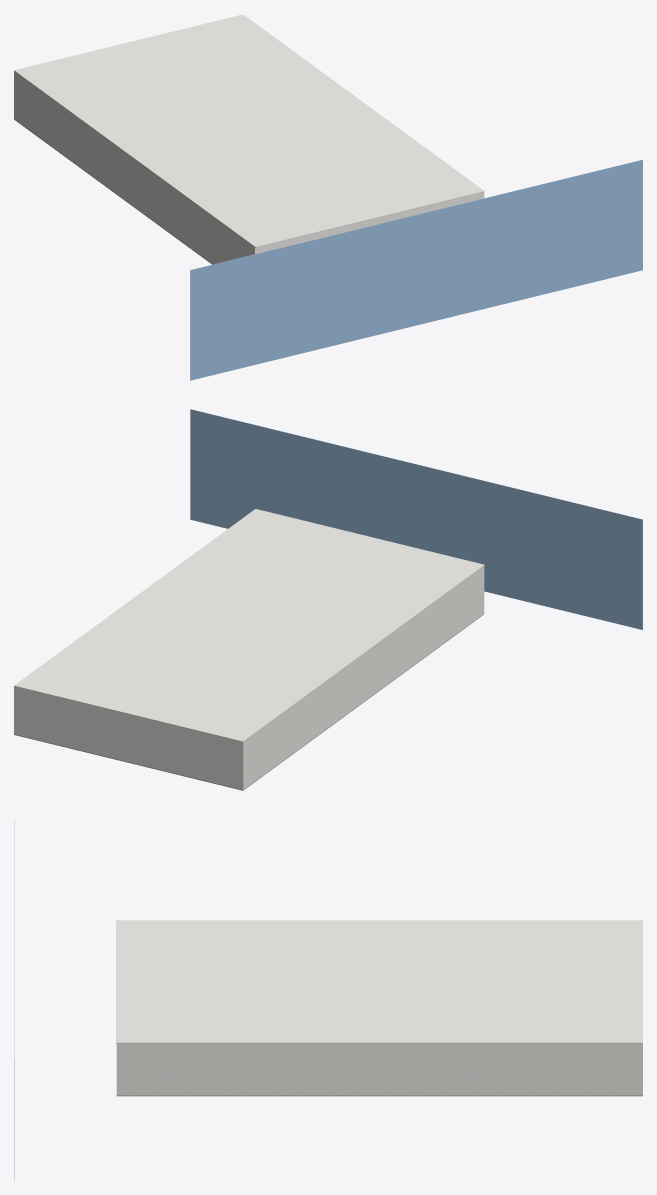
File: interior.glb
3 renders of one model, top to bottom at view 1: azimuth 30°, elevation 25°; view 2: azimuth 150°, elevation 25°; view 3: azimuth 270°, elevation 25°, orthographic. The views are drawn at different scales.
Parts seen in each view (by area): view 1: Ceiling, Sky_Front, Store_IN_StoreWhite; view 2: Ceiling, Sky_Front, Store_IN_StoreWhite, House_Floor_Store; view 3: Ceiling, Store_IN_StoreWhite, House_Floor_Store.
Part boxes in pixels (x1=…): Ceiling: x1=14, y1=14, x2=484, y2=248; Sky_Front: x1=190, y1=159, x2=642, y2=380; Store_IN_StoreWhite: x1=14, y1=71, x2=484, y2=264; Ceiling: x1=14, y1=509, x2=484, y2=742; Sky_Front: x1=190, y1=409, x2=642, y2=629; Store_IN_StoreWhite: x1=14, y1=566, x2=484, y2=789; House_Floor_Store: x1=14, y1=614, x2=483, y2=790; Ceiling: x1=116, y1=920, x2=642, y2=1043; Store_IN_StoreWhite: x1=116, y1=1043, x2=642, y2=1095; House_Floor_Store: x1=116, y1=1095, x2=642, y2=1096.
Bounding box in the file's own units: 60 × 14 × 66.23.
Materials: 37 (35 with a texture image).
